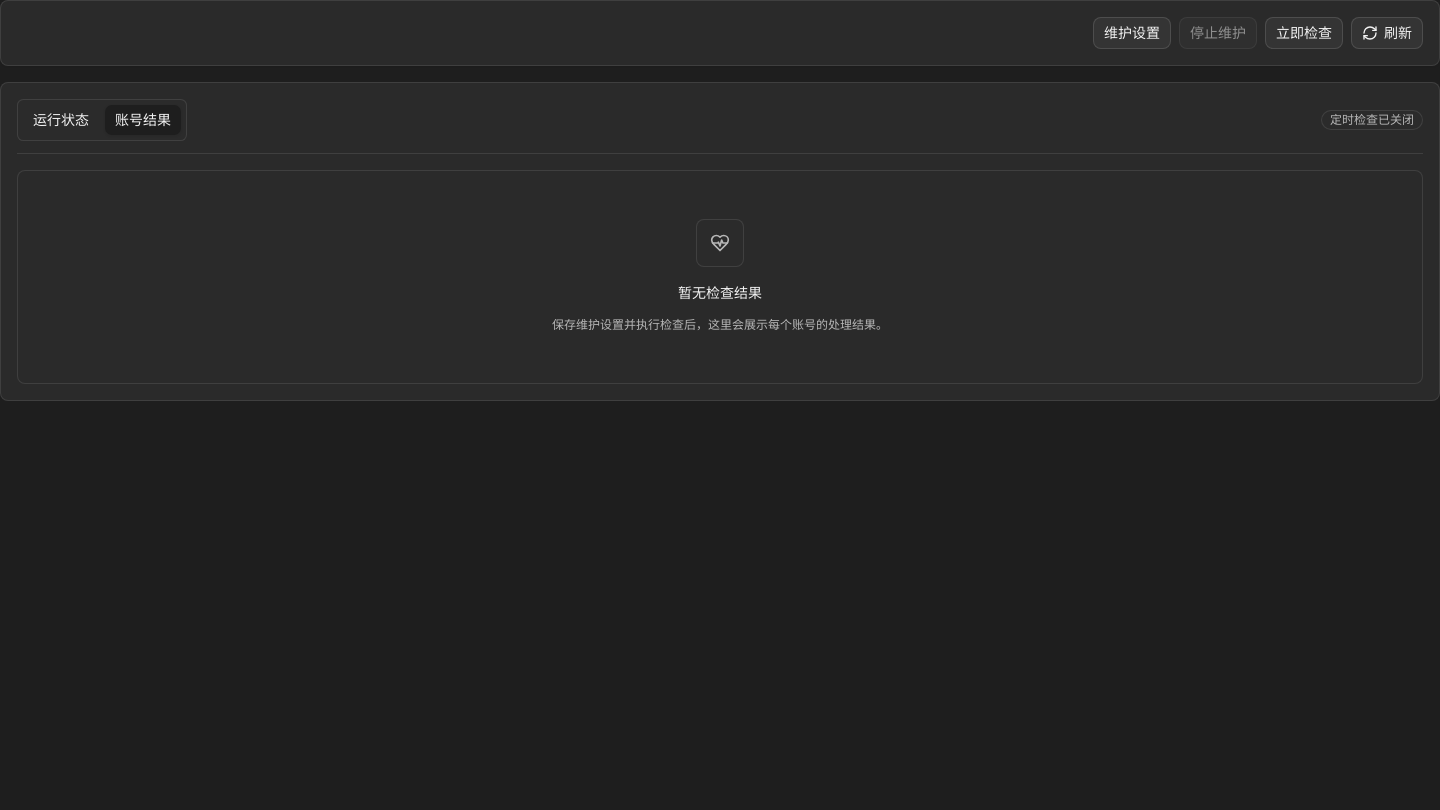
Test: 维护分组后台刷新失败仍保留已有选项与选中分组
Step 1. Click the button "维护设置" → coordinates (1132, 33), box [1093,17,1171,49]
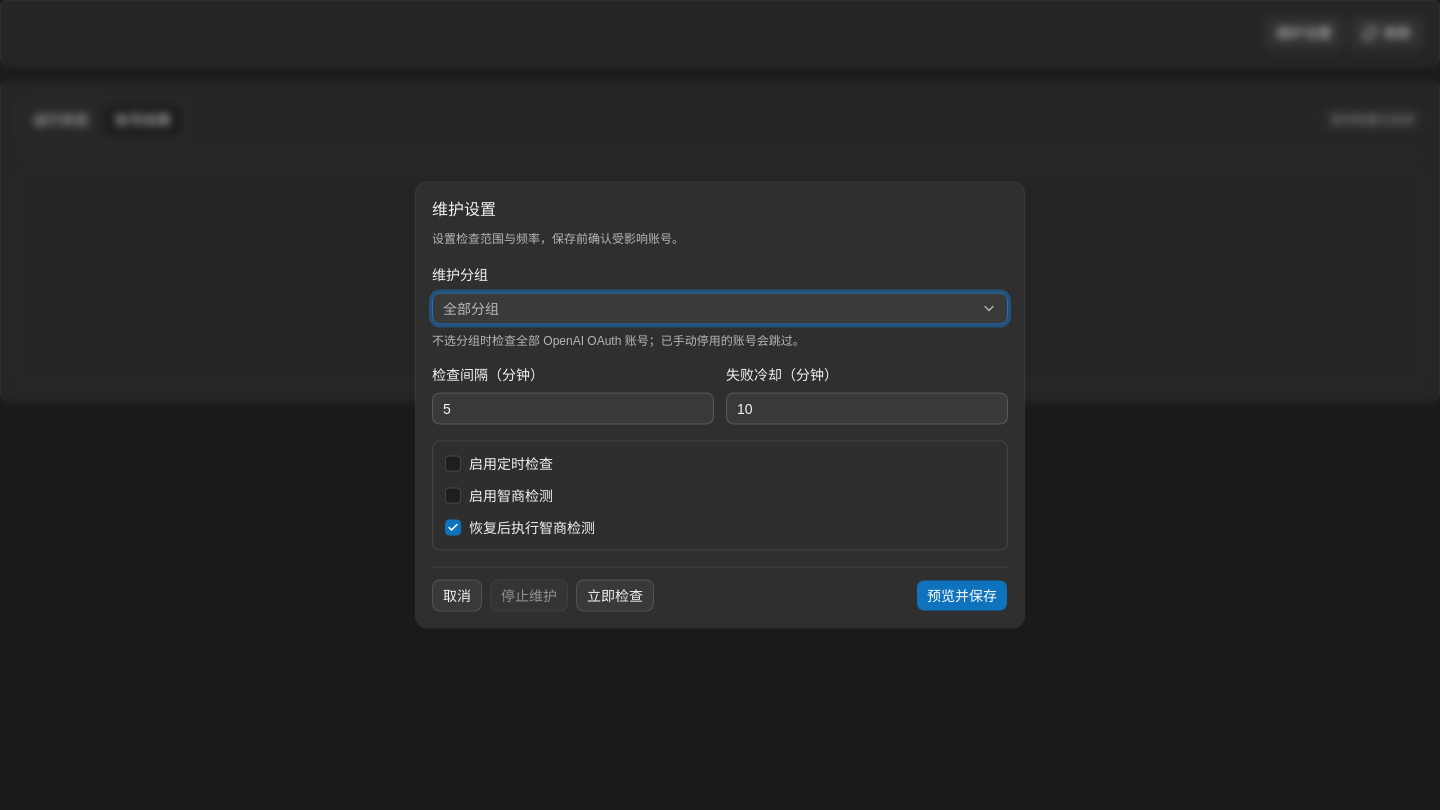
Step 2. Click the dropdown named "维护分组" → coordinates (720, 308), box [432,292,1008,324]
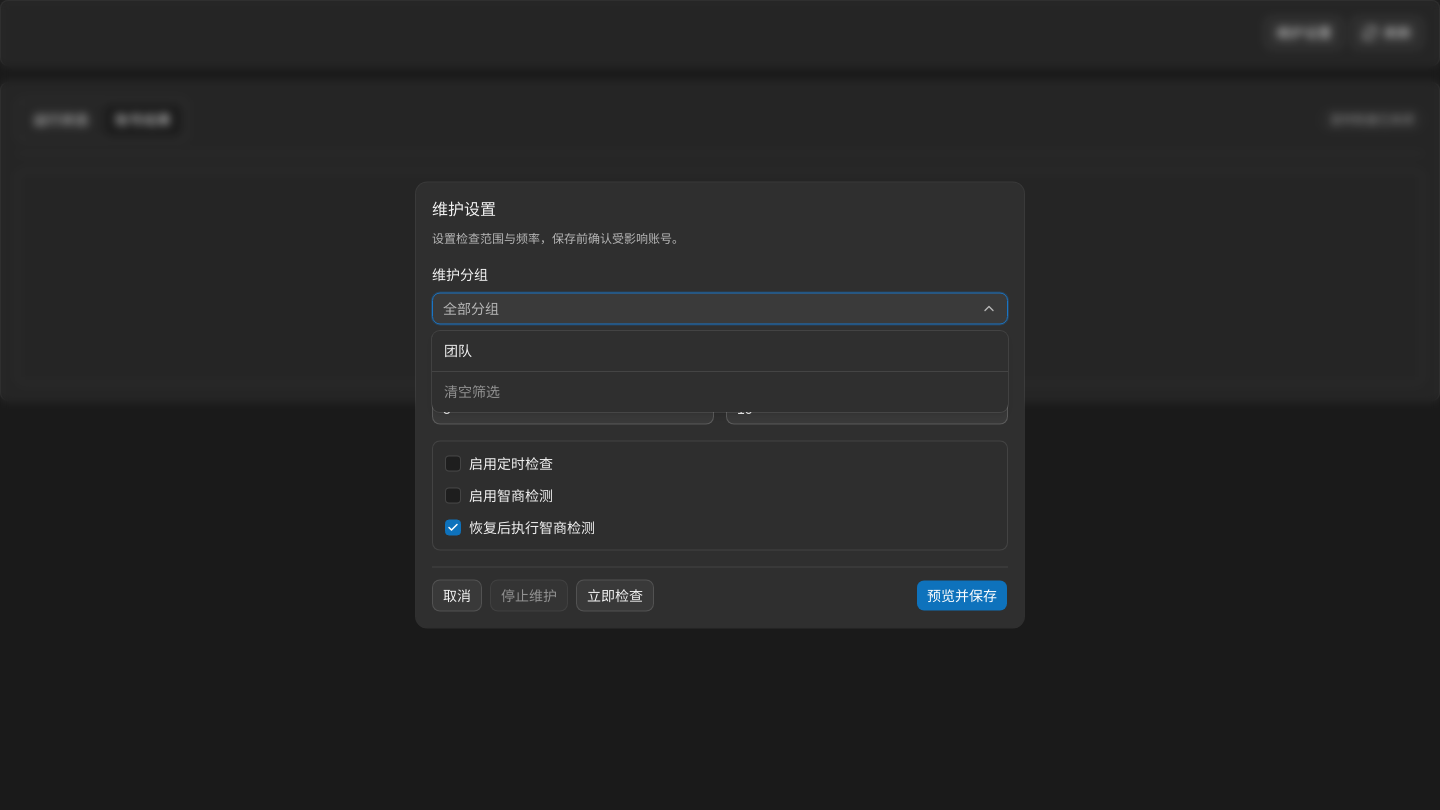
Step 3. Click the option "团队" → coordinates (458, 351), box [444,343,472,359]
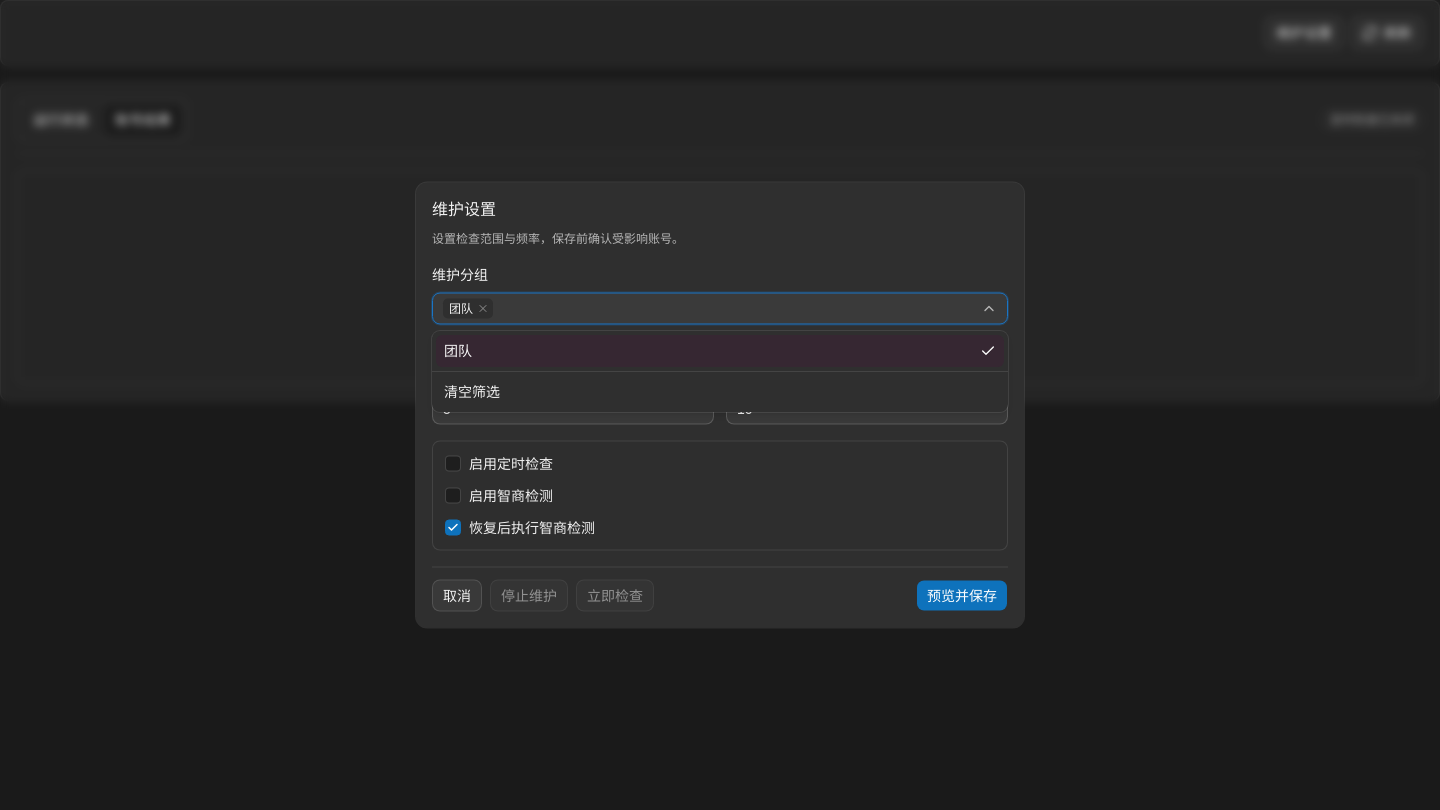
Step 4. Press Escape
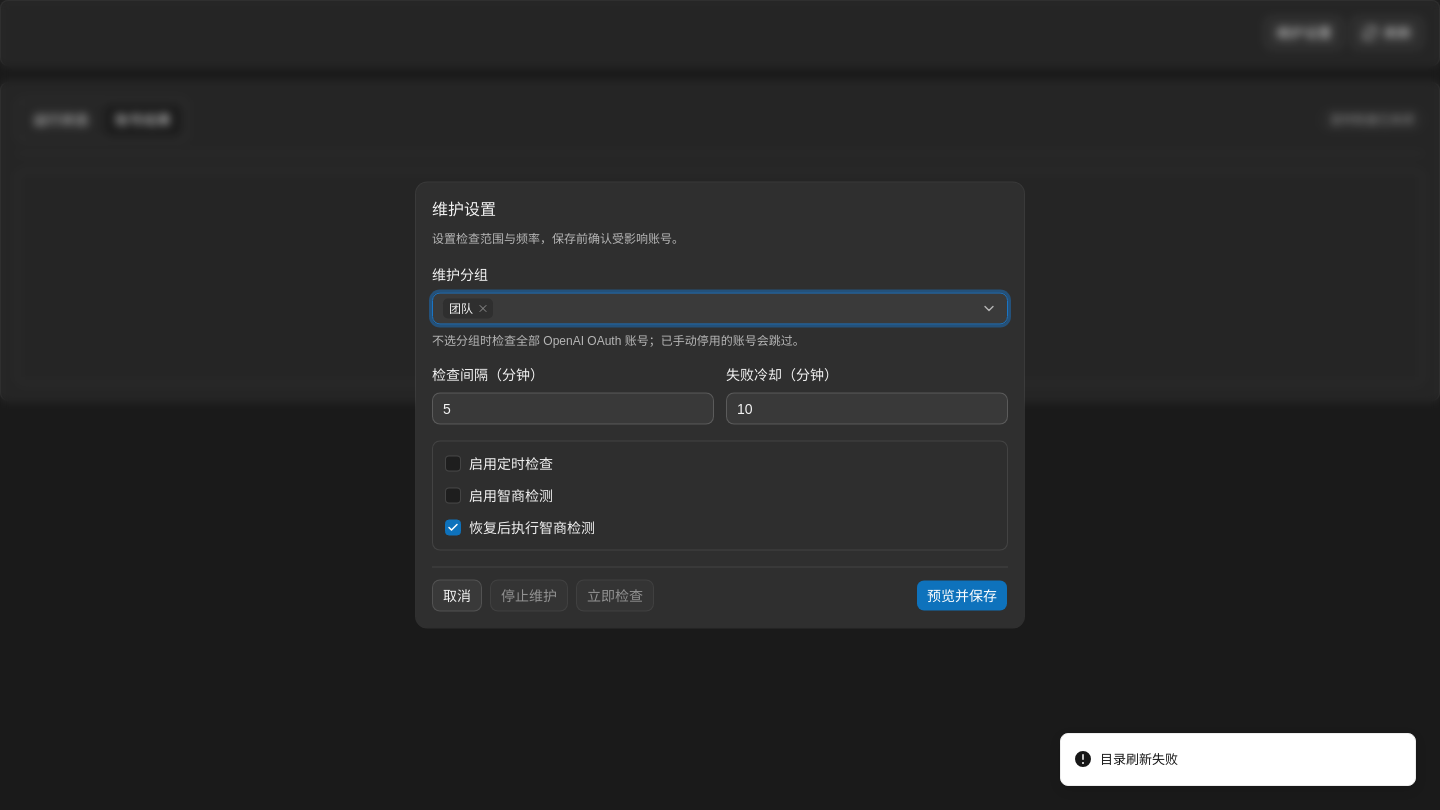
Now the text "目录刷新失败" is shown, box [1100,750,1178,769]
